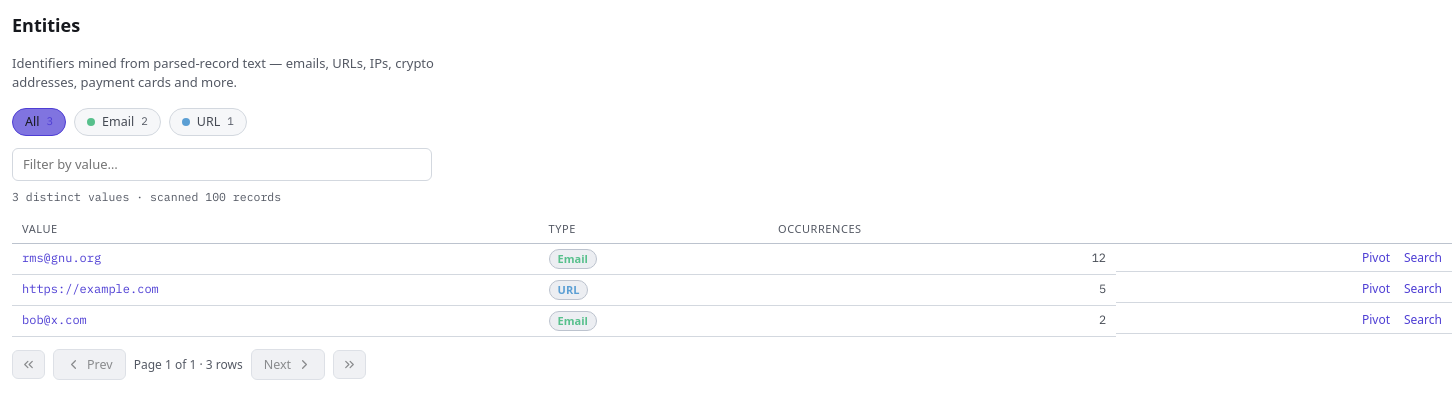
EntitiesPage › renders entities and filters by type chip
Expected: the button "rms@gnu.org" is shown, [22,249,101,267]
Expected: the button "https://example.com" is shown, [22,280,159,298]
Click the button "Email 2": (117, 122) [74,108,161,136]
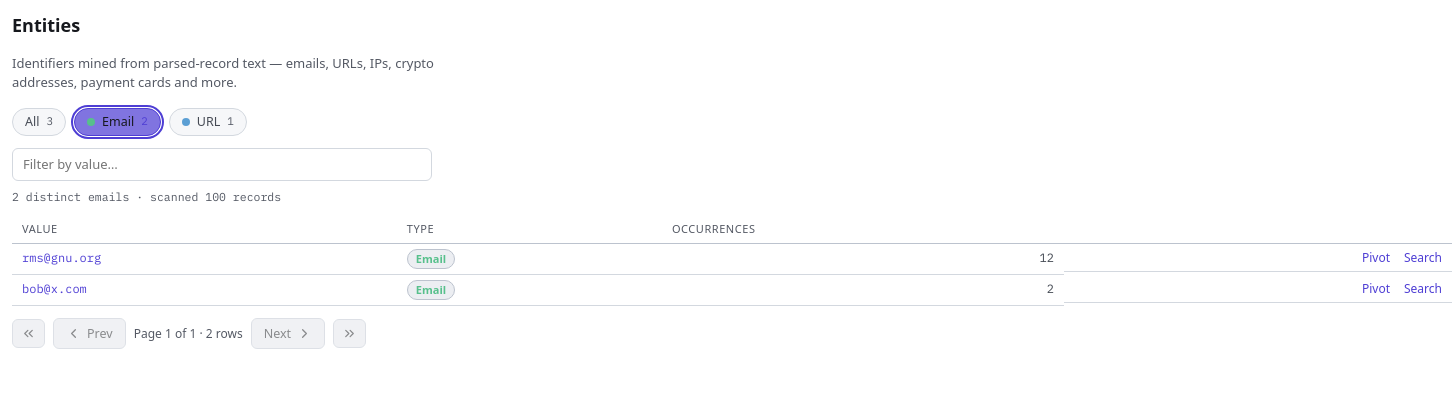
Expected: the button "rms@gnu.org" is shown, [22,249,101,267]
Expected: the button "https://example.com" is gone
